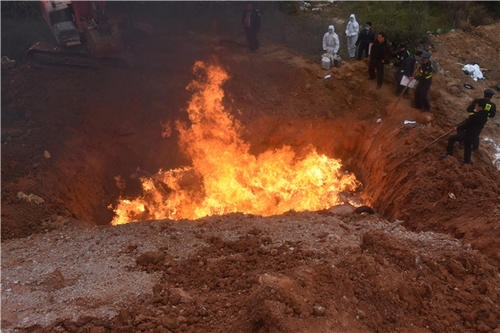fire: (111, 62, 358, 220)
